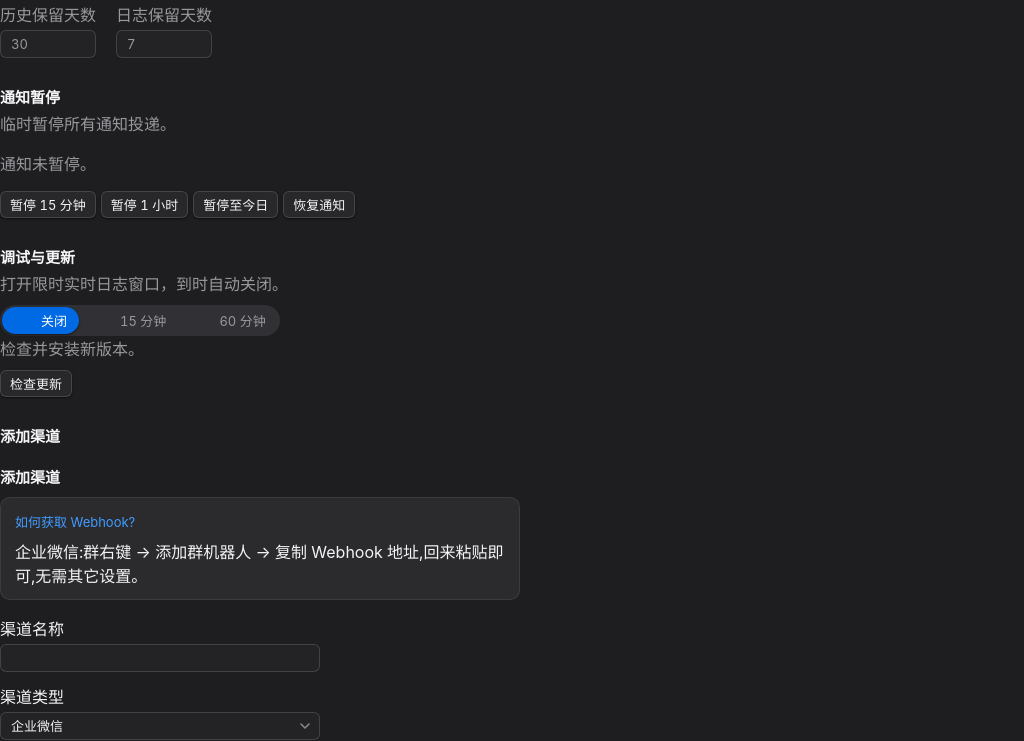
Scenario: an available update installs only after explicit confirmation
Click the button "检查更新": click(36, 384) [0,370,72,397]
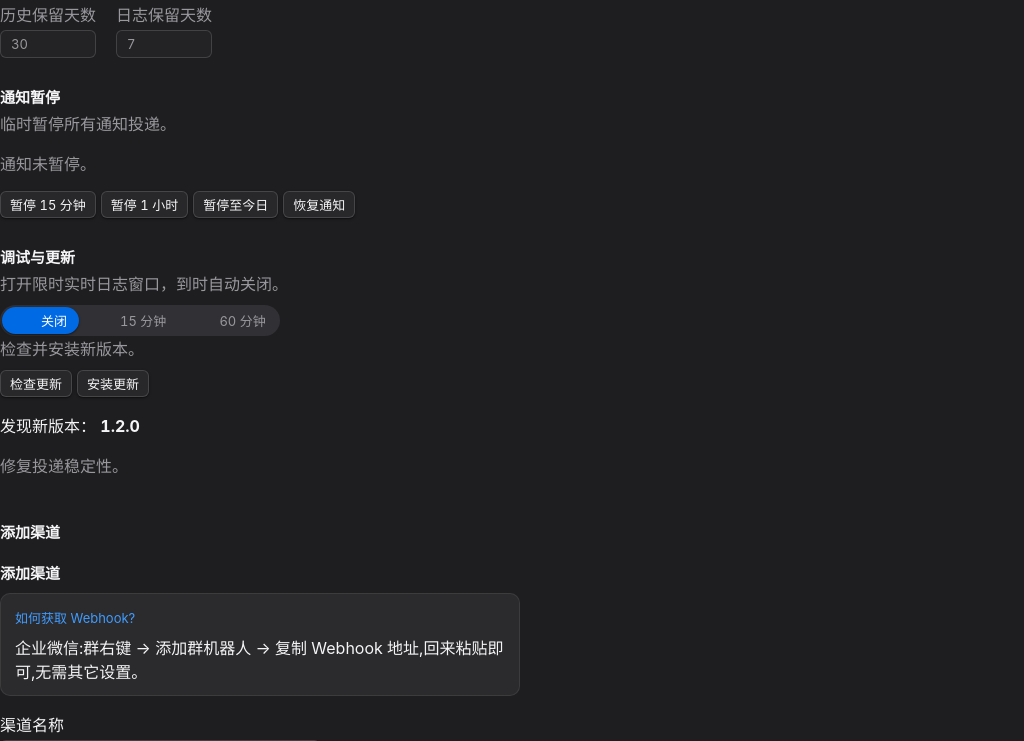
Expected: the text "发现新版本： 1.2.0" is shown, [0,416,140,436]
Expected: the text "1.2.0" is shown, [100,416,140,436]
Expected: the text "修复投递稳定性。" is shown, [0,456,128,476]
Click the button "安装更新": click(113, 384) [77,370,149,397]
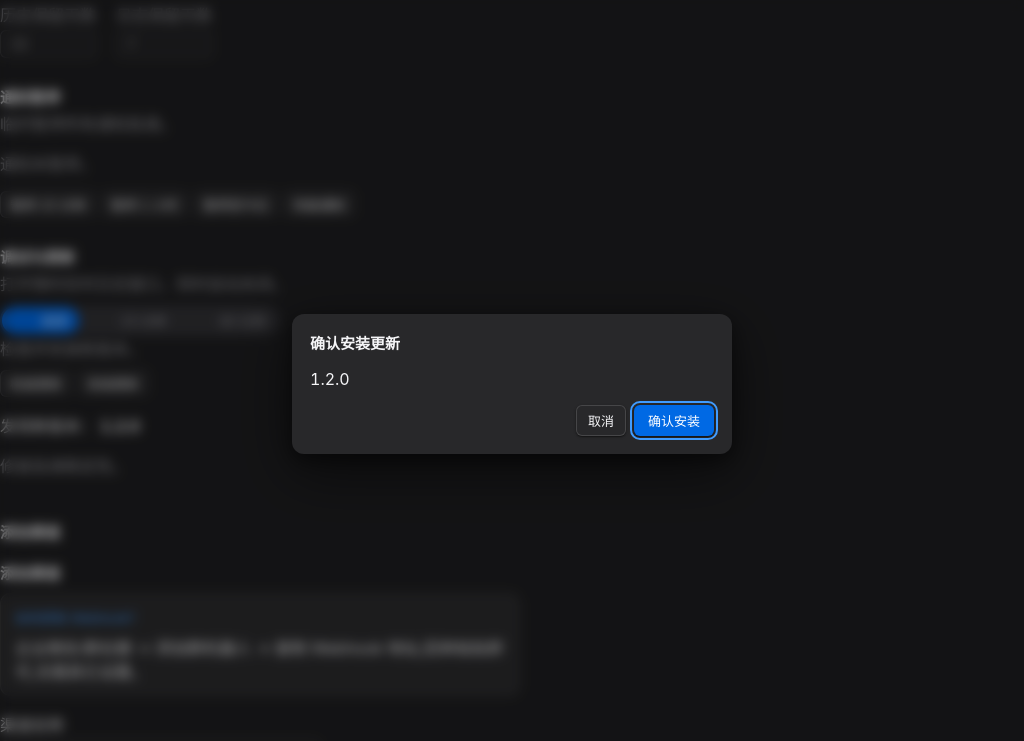
Expected: the dialog "确认安装更新" is shown, [292,314,732,454]
Click the button "确认安装": click(674, 420) [634,405,714,436]
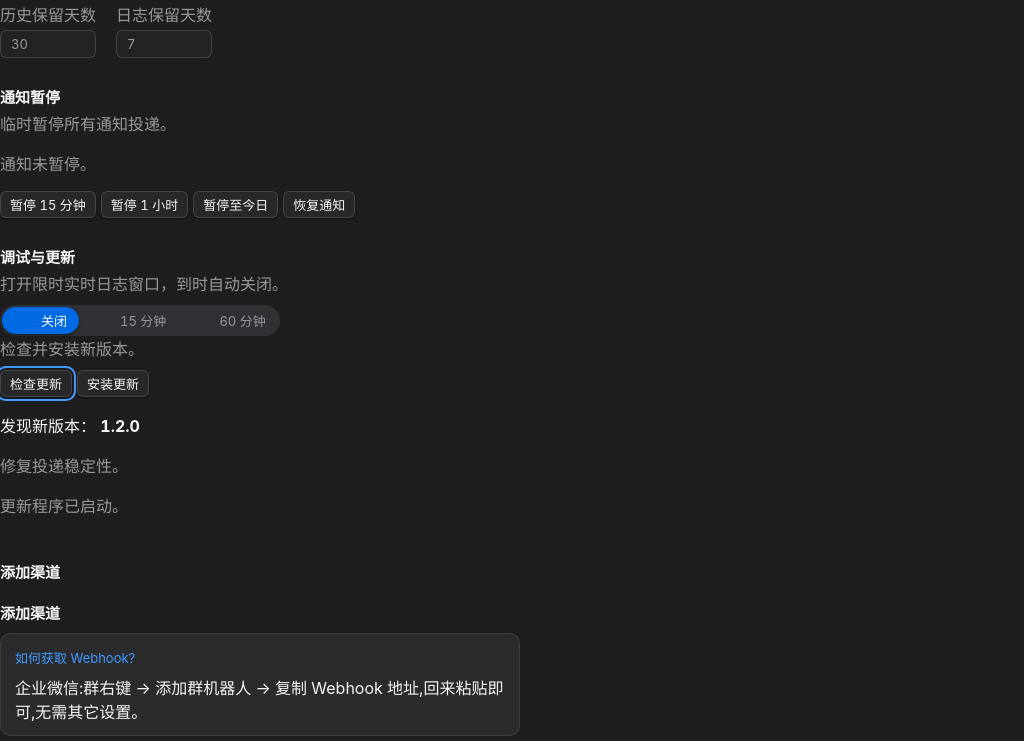
Expected: the text "更新程序已启动。" is shown, [0,496,128,516]
